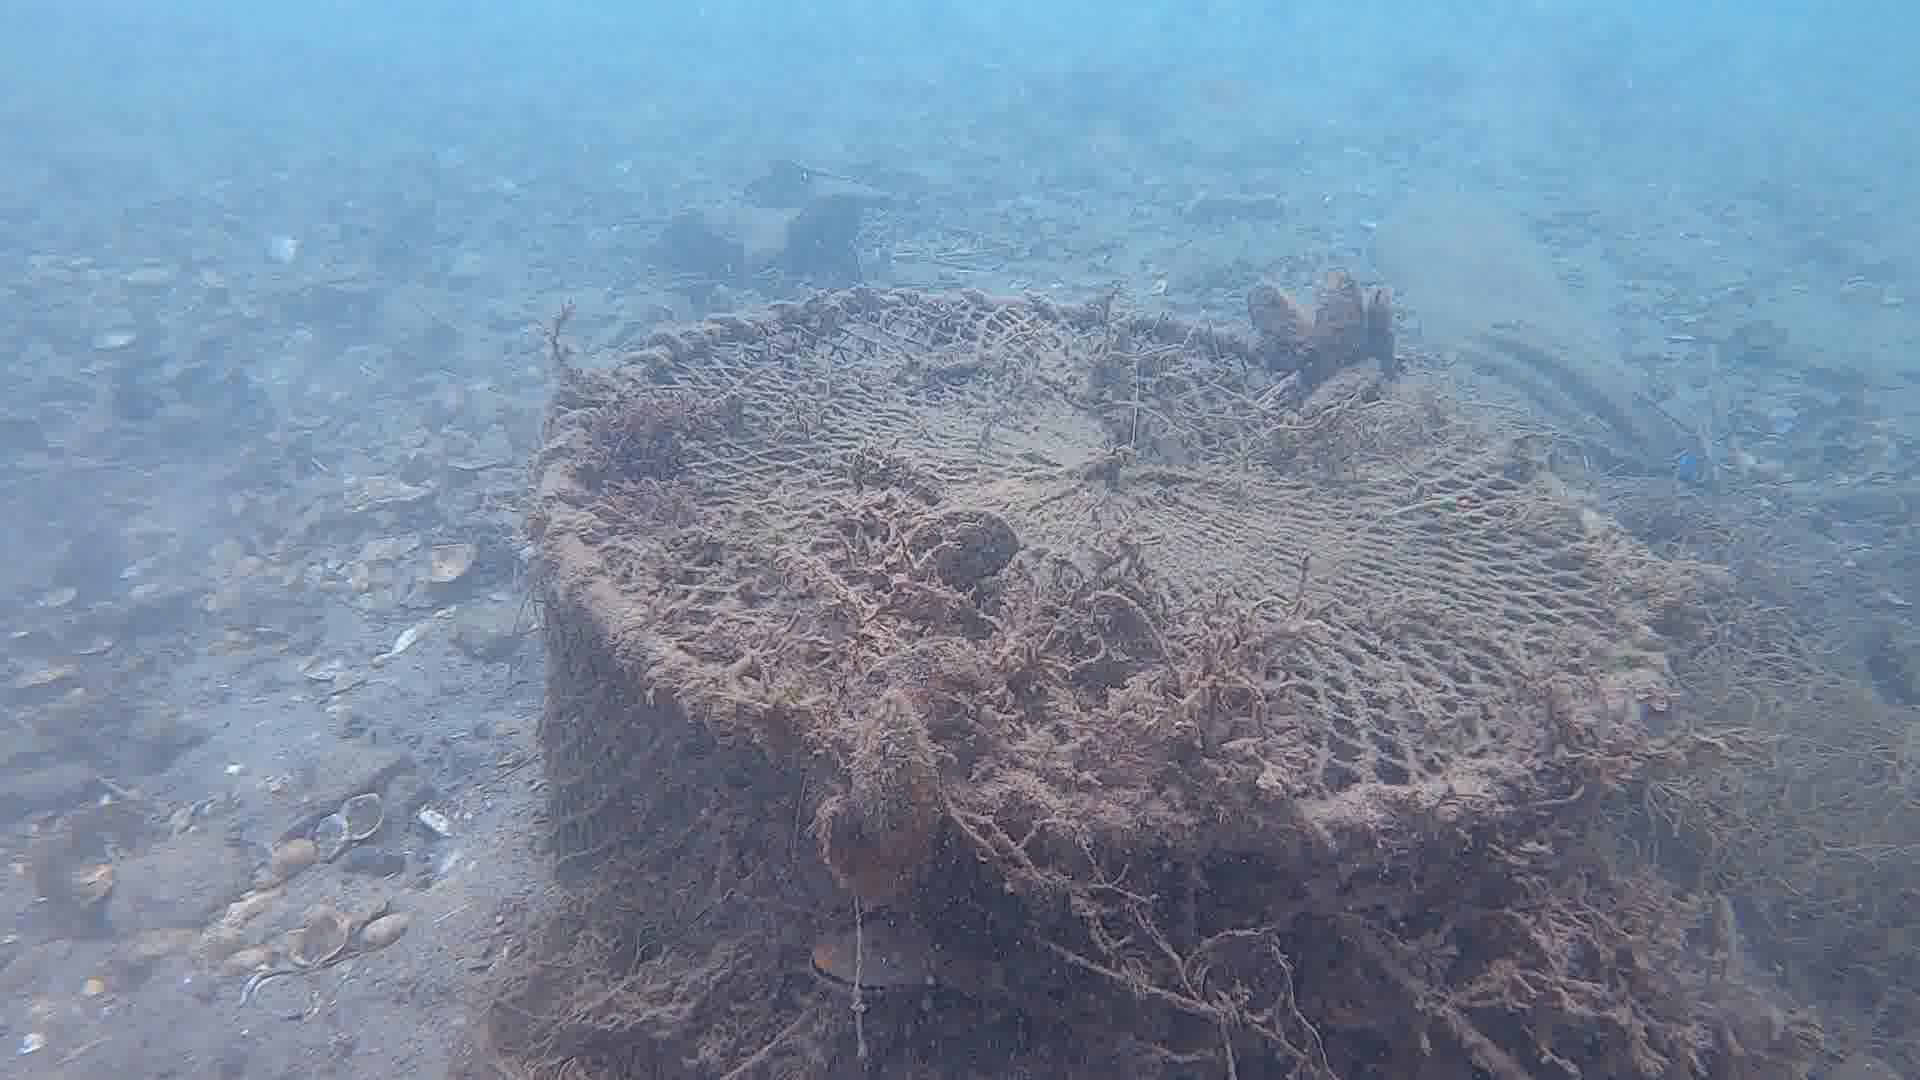circular fish trap: (522, 285, 1683, 1080)
